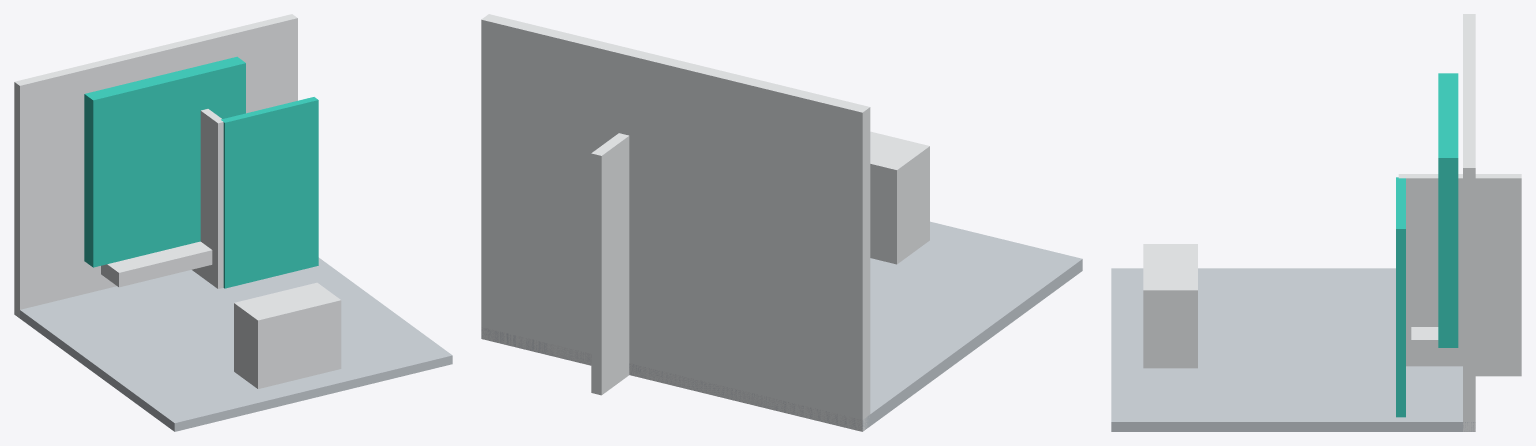
The picture shows the model from 3 angles, left to right: view 1: azimuth 30°, elevation 25°; view 2: azimuth 150°, elevation 25°; view 3: azimuth 270°, elevation 25°; orthographic projection. The views are drawn at different scales.
Visible parts, largest first — view 1: Exhibition Booth Concept; view 2: Exhibition Booth Concept; view 3: Exhibition Booth Concept.
Boxes of the visible parts, x1,y1,x2,y2 form: Exhibition Booth Concept: (14, 14, 452, 431); Exhibition Booth Concept: (481, 14, 1082, 431); Exhibition Booth Concept: (1111, 14, 1521, 431).
Bounding box in the file's own units: 4 × 3.2 × 4.51.
